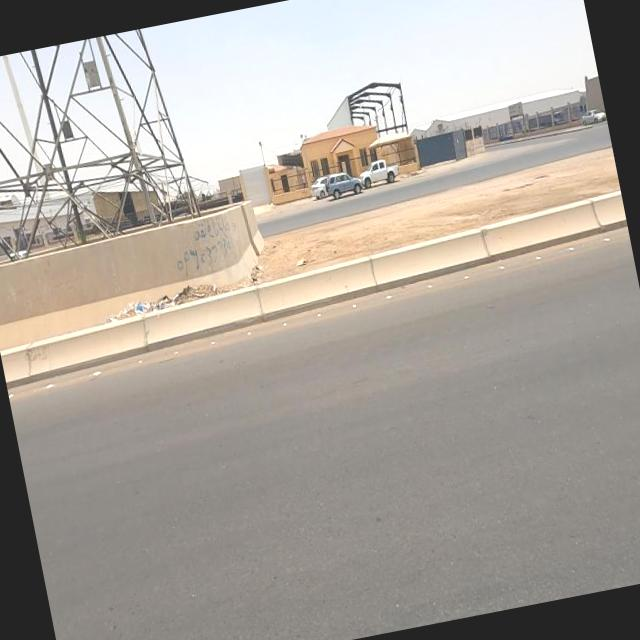debris: (128, 178, 286, 310), (68, 254, 211, 354), (143, 247, 262, 334), (227, 238, 290, 310)
